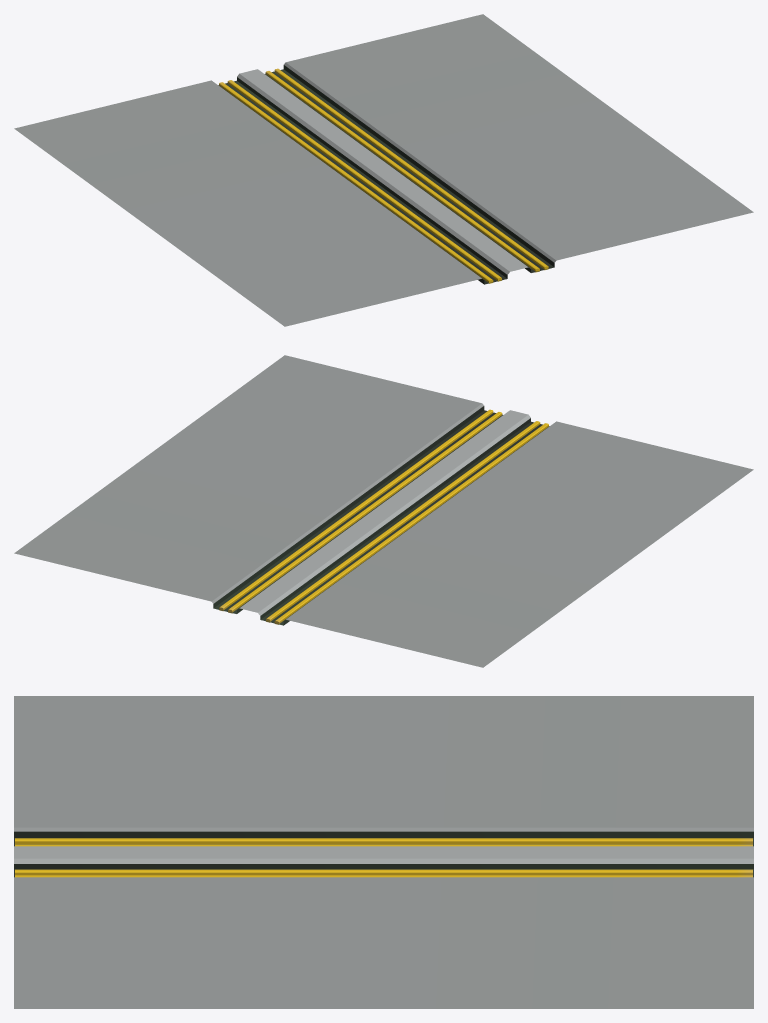
File: Main_construction_platform.fbx
3 renders of one model, top to bottom at view 1: azimuth 30°, elevation 25°; view 2: azimuth 150°, elevation 25°; view 3: azimuth 270°, elevation 25°, orthographic. The views are drawn at different scales.
Visible parts, largest first — view 1: Main_construction_platform; view 2: Main_construction_platform; view 3: Main_construction_platform.
Boxes of the visible parts, x1=… form: Main_construction_platform: x1=14, y1=14, x2=753, y2=326; Main_construction_platform: x1=14, y1=355, x2=753, y2=667; Main_construction_platform: x1=14, y1=696, x2=753, y2=1008.
Size of the model in its own units: 1732 by 25.54 by 1732.
